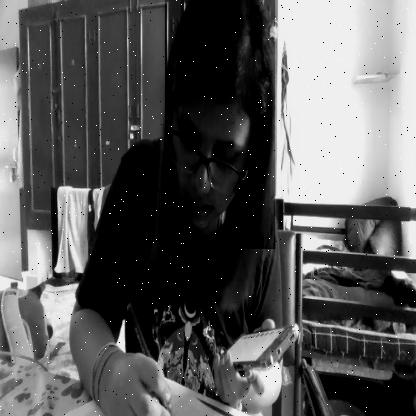Normal: (165, 0, 275, 249)
